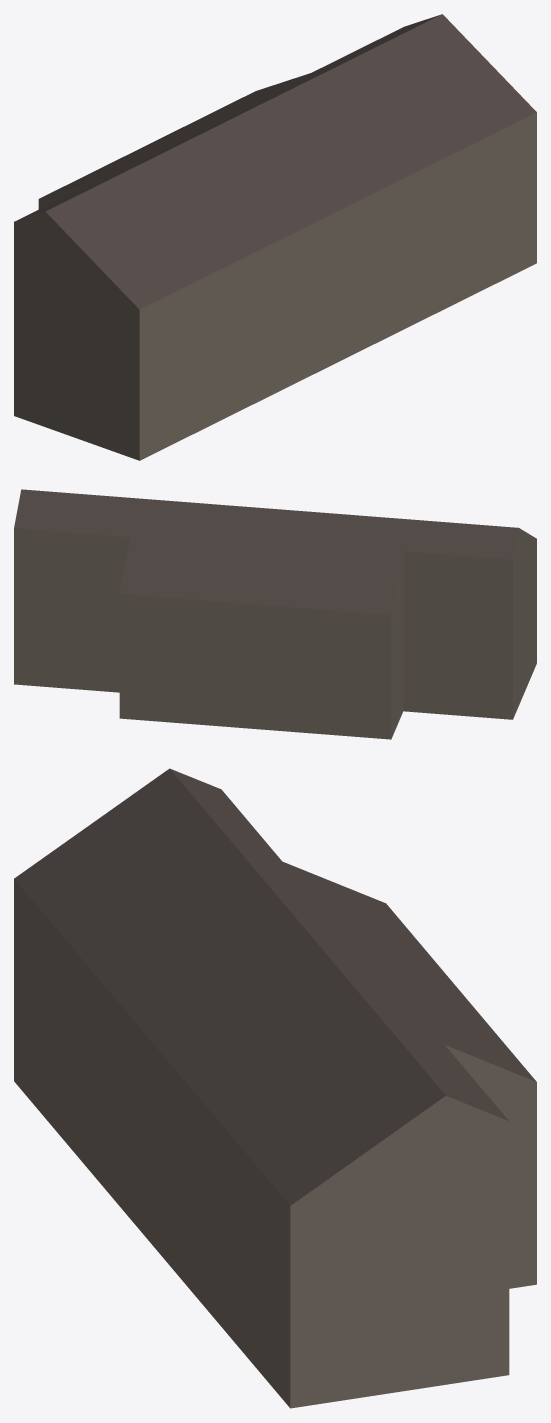
The picture shows the model from 3 angles, top to bottom: view 1: azimuth 30°, elevation 25°; view 2: azimuth 150°, elevation 25°; view 3: azimuth 270°, elevation 25°; orthographic projection. The views are drawn at different scales.
Parts seen in each view (by area): view 1: HP-w776801031; view 2: HP-w776801031; view 3: HP-w776801031.
Part boxes in pixels (x1,y1,x2,y2): HP-w776801031: [14, 14, 536, 460]; HP-w776801031: [14, 489, 536, 739]; HP-w776801031: [14, 768, 536, 1408].
Size of the model in its own units: 34.21 by 12.85 by 21.07.
